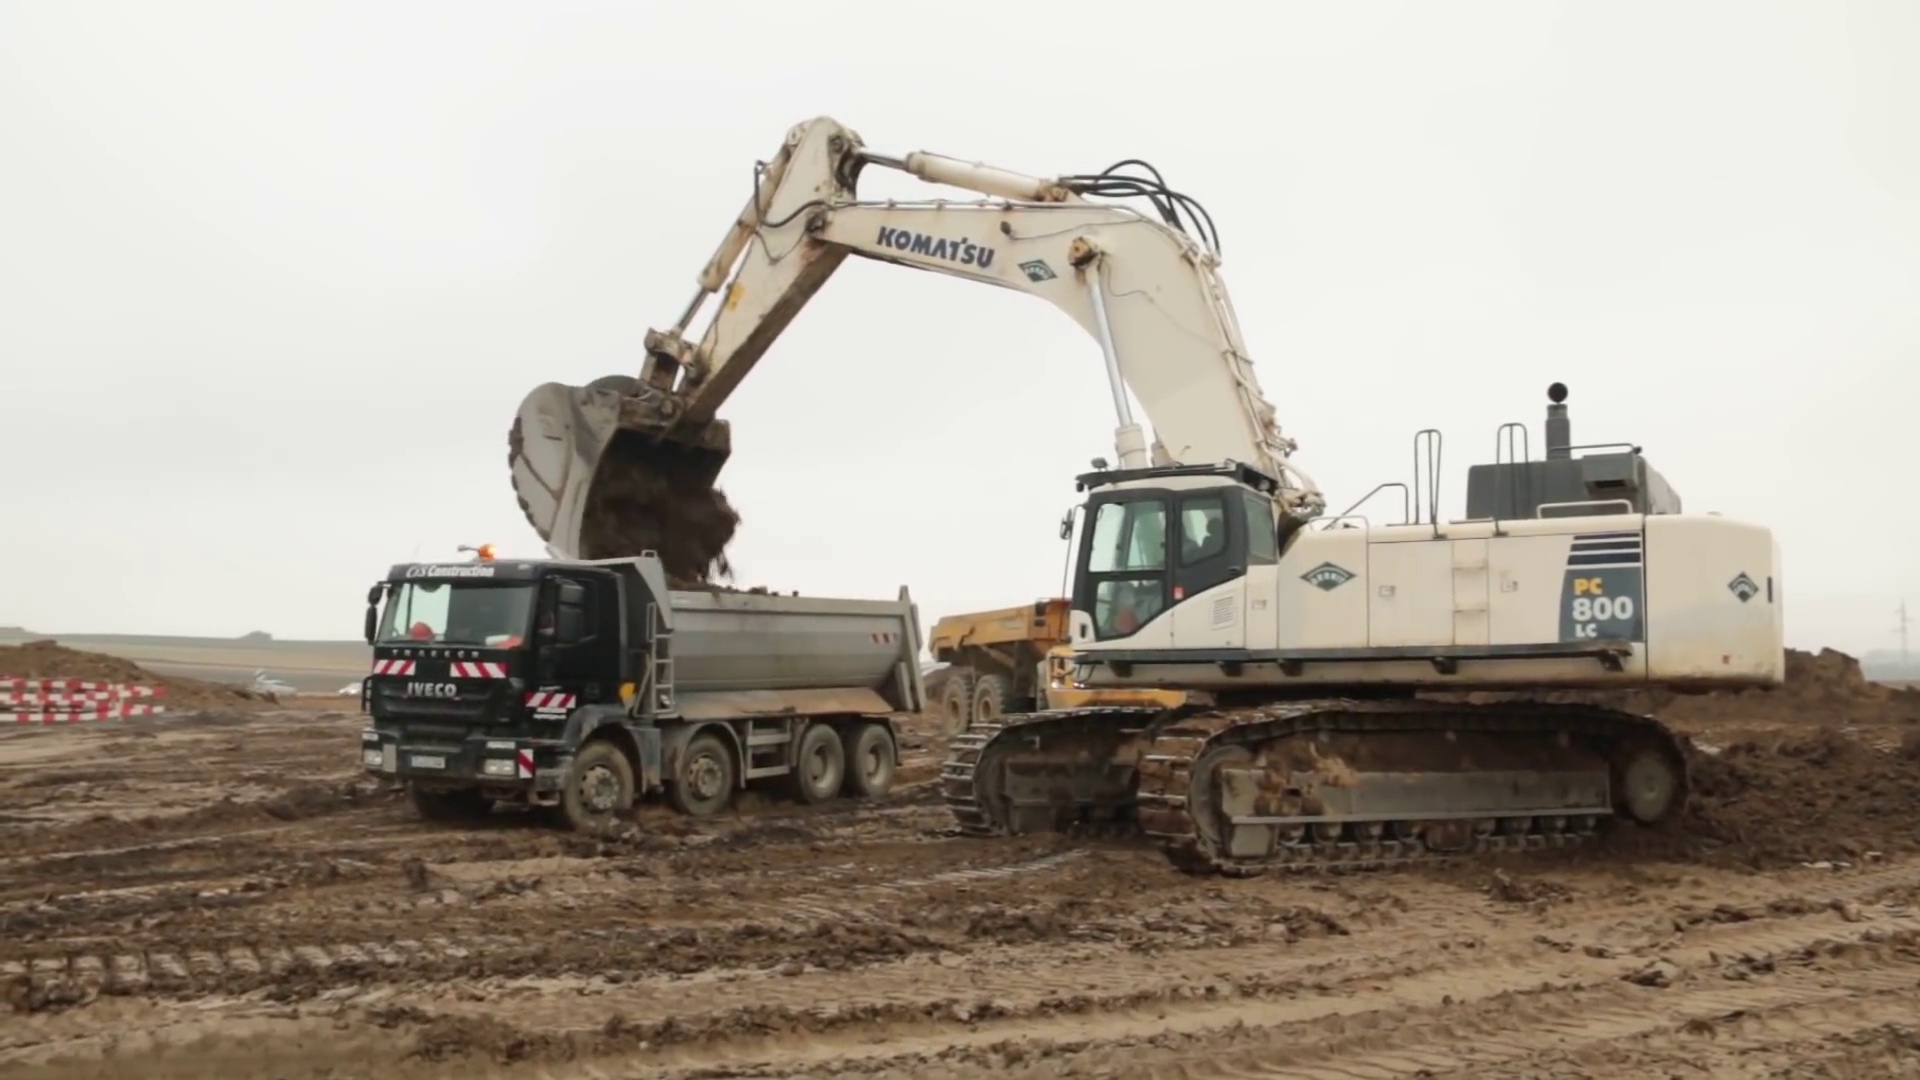dumper: (930, 604, 1188, 728)
excavator: (505, 115, 1788, 876)
truck: (342, 555, 932, 818)
